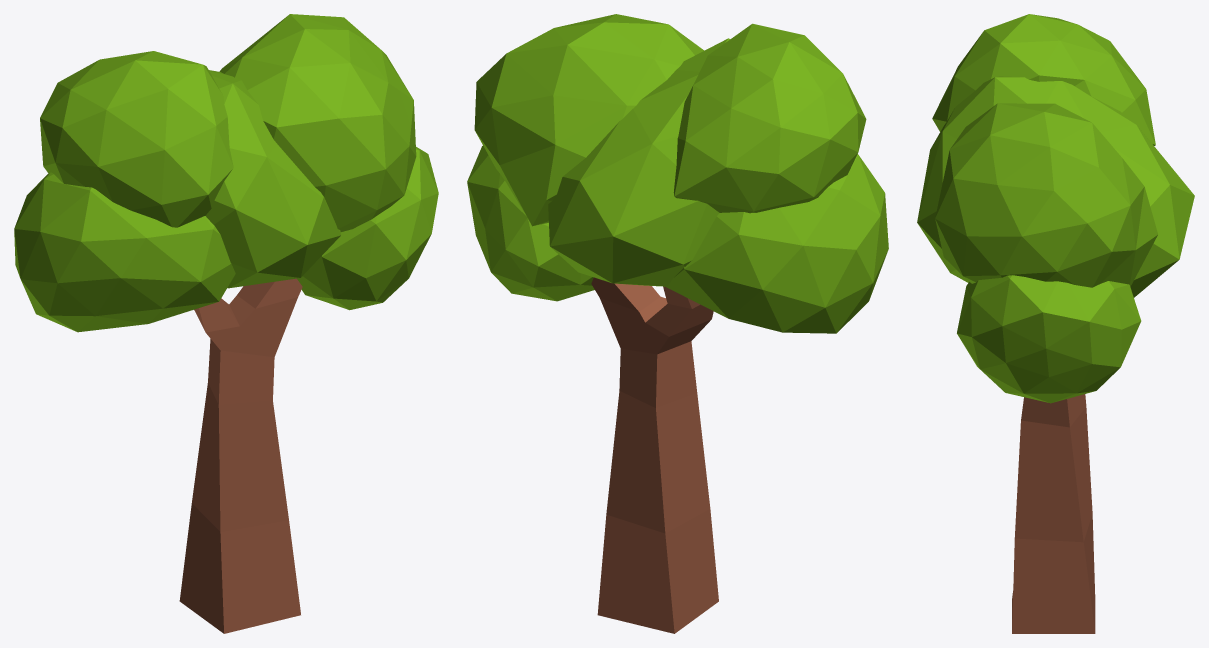
Rendered from f_long_oak_tree1.fbx.
The picture shows the model from 3 angles, left to right: view 1: azimuth 30°, elevation 25°; view 2: azimuth 150°, elevation 25°; view 3: azimuth 270°, elevation 25°; orthographic projection. The views are drawn at different scales.
Parts seen in each view (by area): view 1: OakTree1; view 2: OakTree1; view 3: OakTree1.
Boxes of the visible parts, x1,y1,x2,y2 form: OakTree1: [14, 14, 438, 633]; OakTree1: [467, 14, 888, 633]; OakTree1: [917, 14, 1194, 633].
Bounding box in the file's own units: 976 × 1368 × 628.
